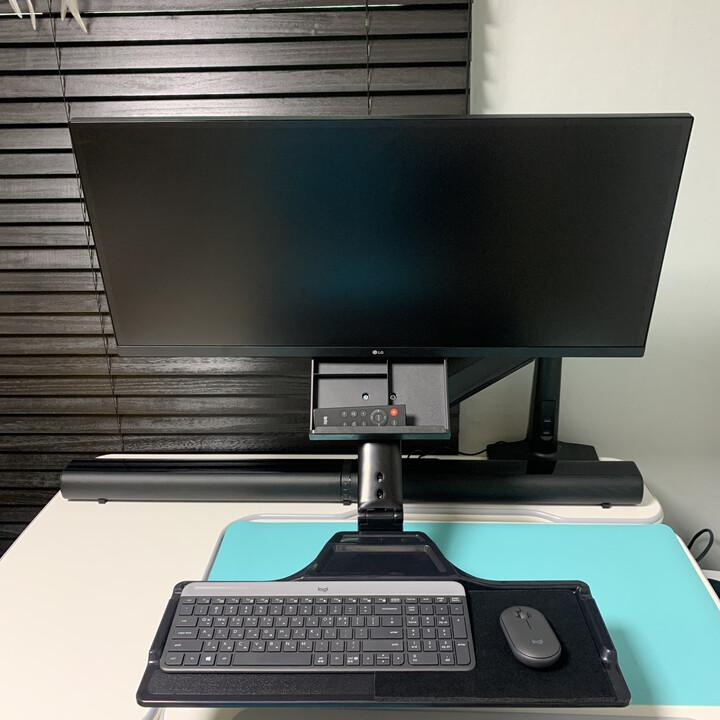keyboard: (157, 580, 475, 674)
mouse: (498, 604, 562, 669)
